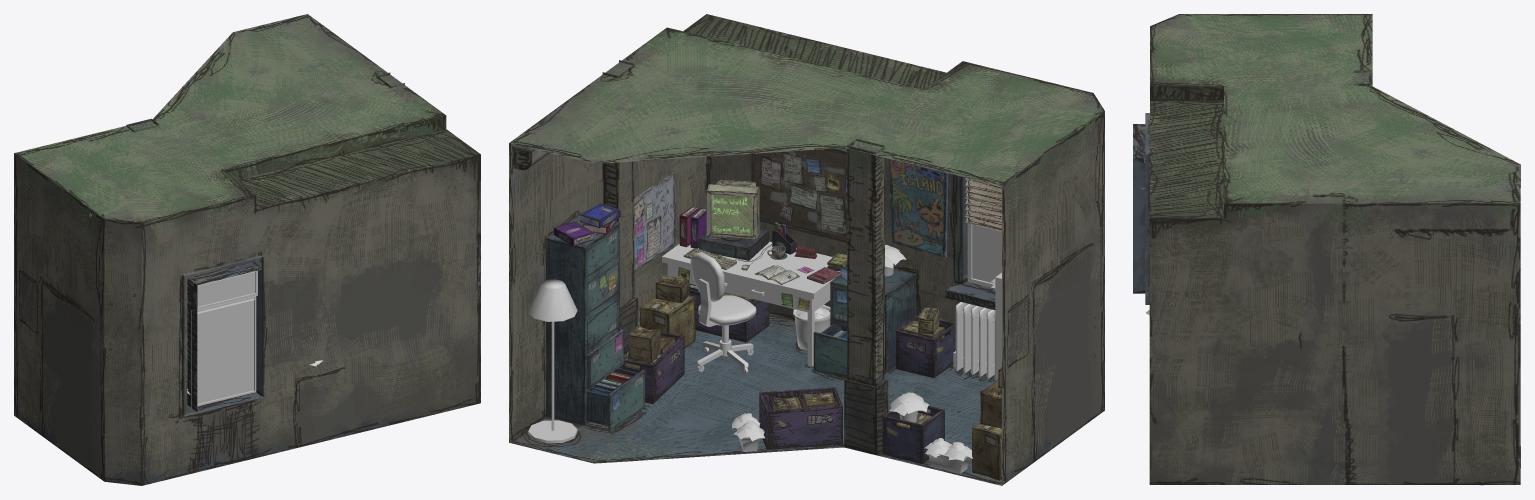
3 views of the same model, side by side, from view 1: azimuth 30°, elevation 25°; view 2: azimuth 150°, elevation 25°; view 3: azimuth 270°, elevation 25° (orthographic). The views are drawn at different scales.
Parts seen in each view (by area): view 1: Room, Window; view 2: Room, Boxes, Window; view 3: Room.
Boxes of the visible parts, bbox=[...] form: Room: bbox=[14, 14, 480, 485]; Window: bbox=[74, 67, 322, 407]; Room: bbox=[509, 14, 1104, 485]; Boxes: bbox=[546, 148, 1001, 480]; Window: bbox=[528, 109, 1017, 473]; Room: bbox=[1133, 14, 1520, 484].
Size of the model in its own units: 4.87 by 3.39 by 4.18.
